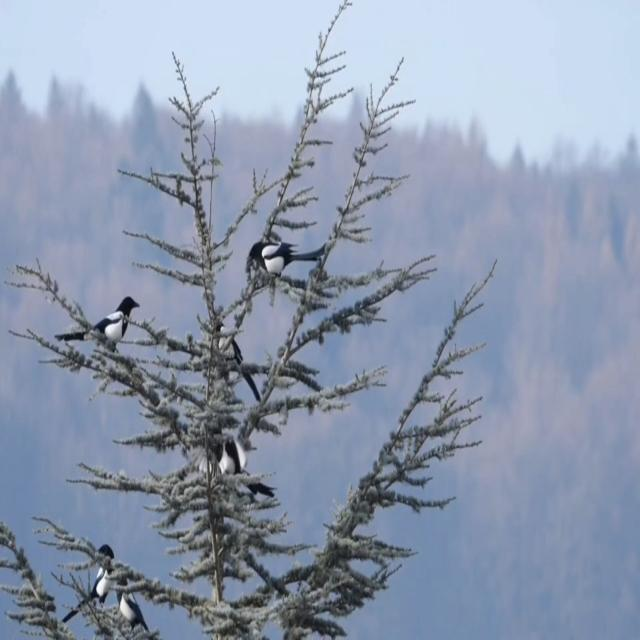bird: (36, 268, 150, 392), (190, 426, 281, 540), (64, 526, 123, 637), (202, 308, 264, 404), (245, 222, 322, 290), (222, 471, 292, 532), (115, 568, 156, 637)
